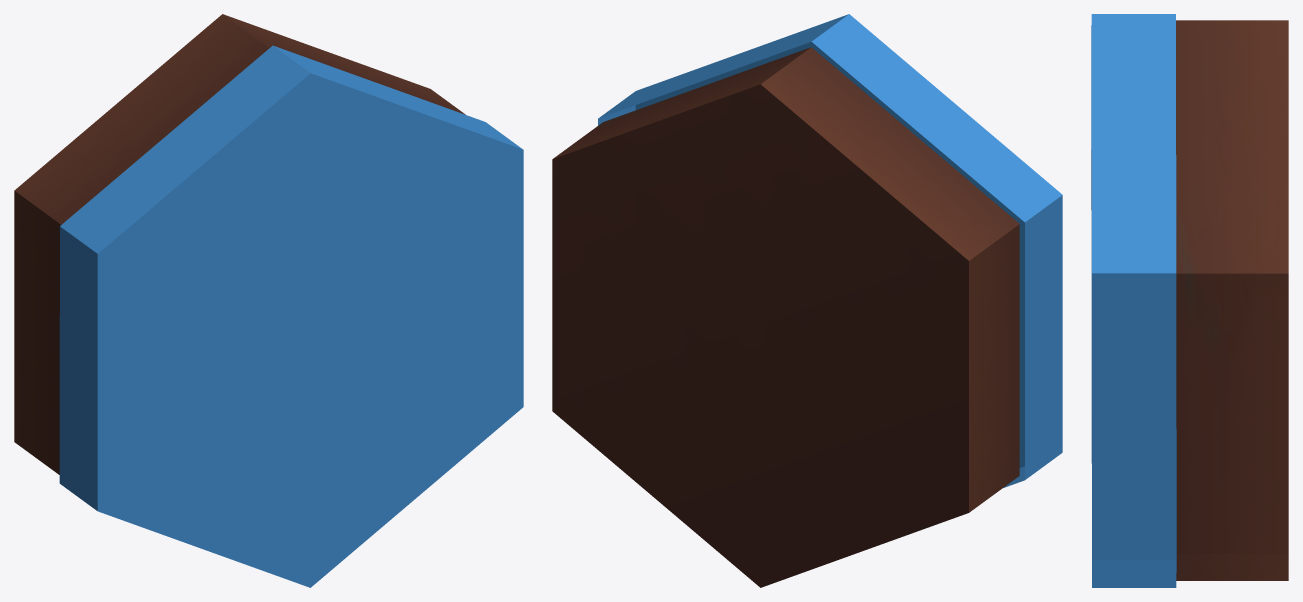
Rendered from WATER.fbx.
3 renders of one model, left to right at view 1: azimuth 30°, elevation 25°; view 2: azimuth 150°, elevation 25°; view 3: azimuth 270°, elevation 25°, orthographic. The views are drawn at different scales.
Parts seen in each view (by area): view 1: WATER; view 2: WATER; view 3: WATER.
Part boxes in pixels (left/top/right/bottom): WATER: left=14, top=14, right=523, bottom=587; WATER: left=552, top=14, right=1062, bottom=587; WATER: left=1091, top=14, right=1288, bottom=587.
Size of the model in its own units: 174 by 200 by 62.44.
